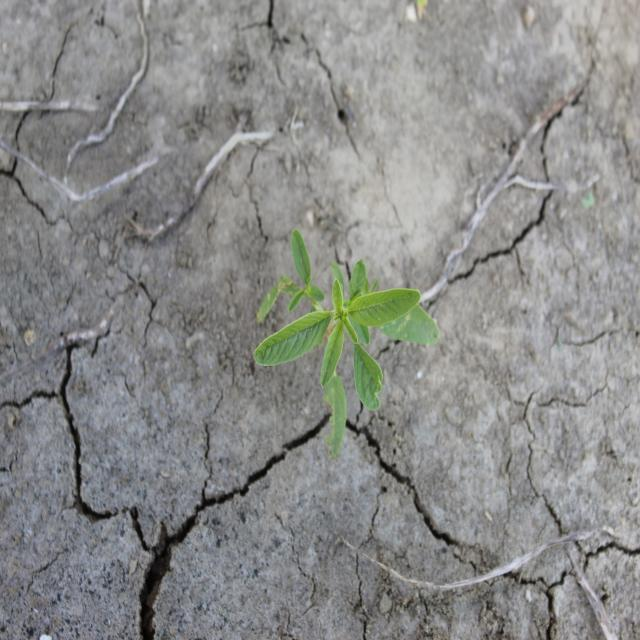Waterhemp: (252, 226, 441, 463)
